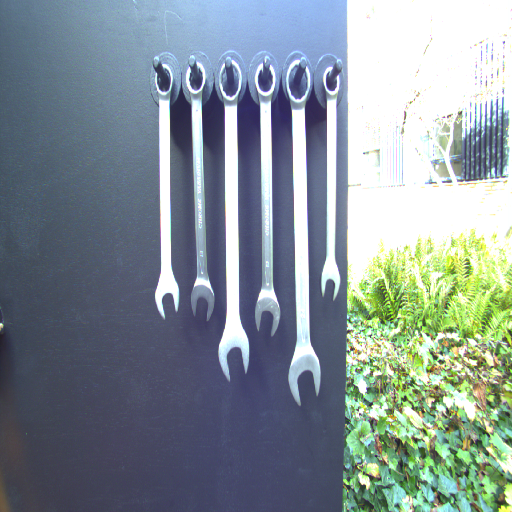bottom: (287, 339, 323, 408), (215, 320, 252, 382), (252, 287, 282, 339), (152, 274, 183, 321), (188, 278, 215, 323), (319, 258, 342, 303)
top: (285, 57, 314, 107), (218, 54, 245, 104), (151, 59, 178, 101), (252, 57, 277, 102), (184, 62, 209, 101), (320, 64, 344, 101)
